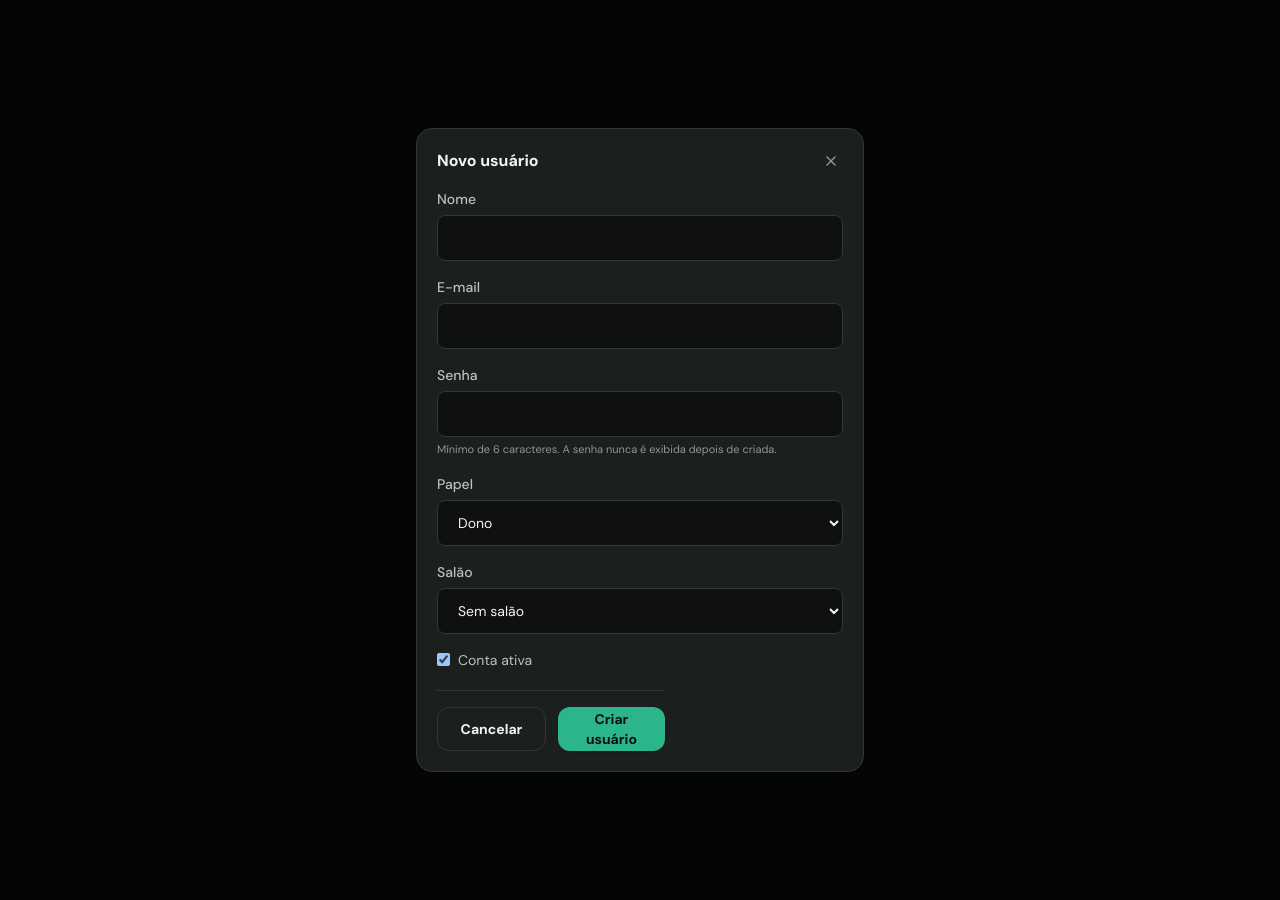
Test: UserFormDialog › valida senha curta na criação
Type "Maria" into the field labelled "Nome" at [640, 238], box [437, 215, 843, 261]
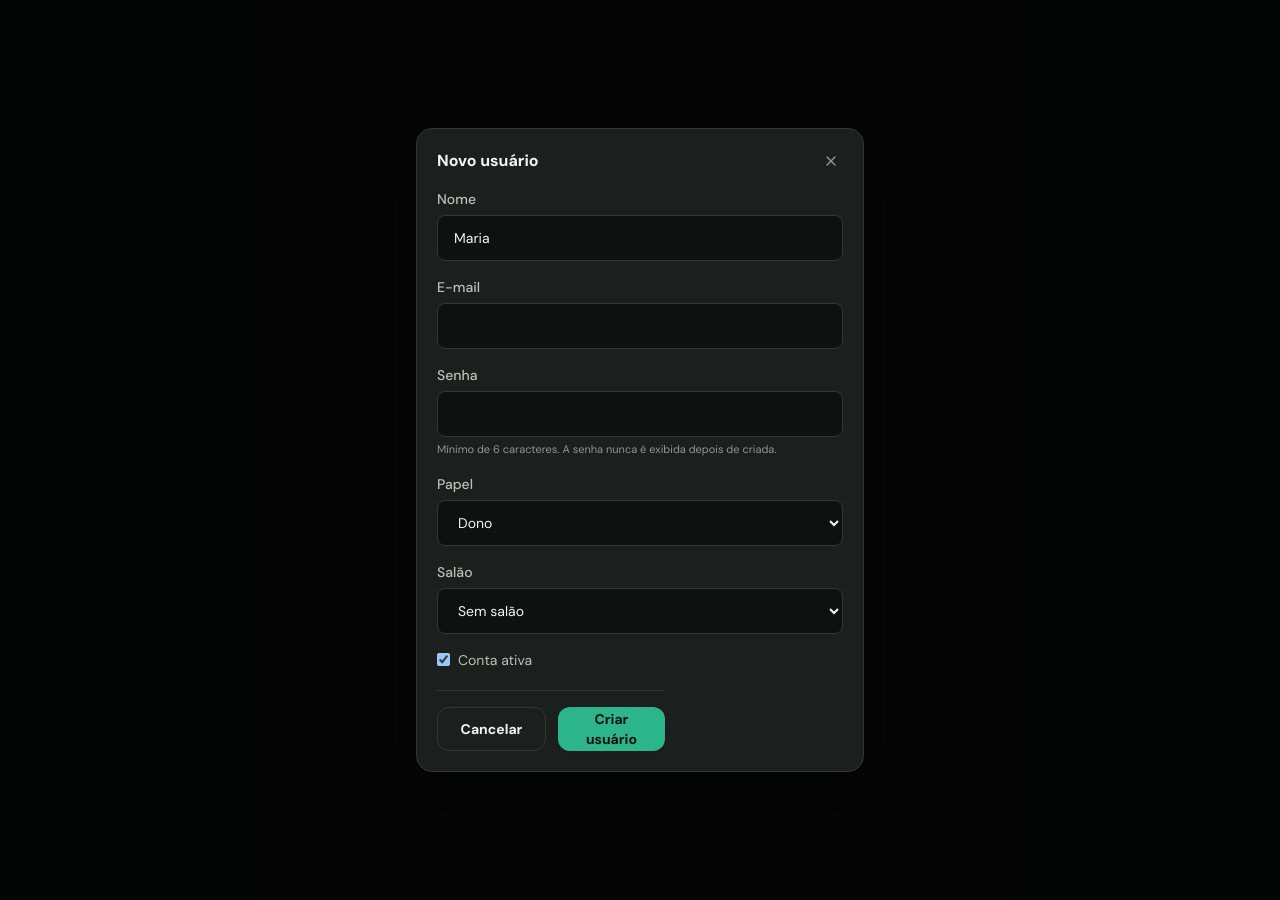
Type "maria@x.com" into the field labelled "E-mail" at [640, 326], box [437, 303, 843, 349]
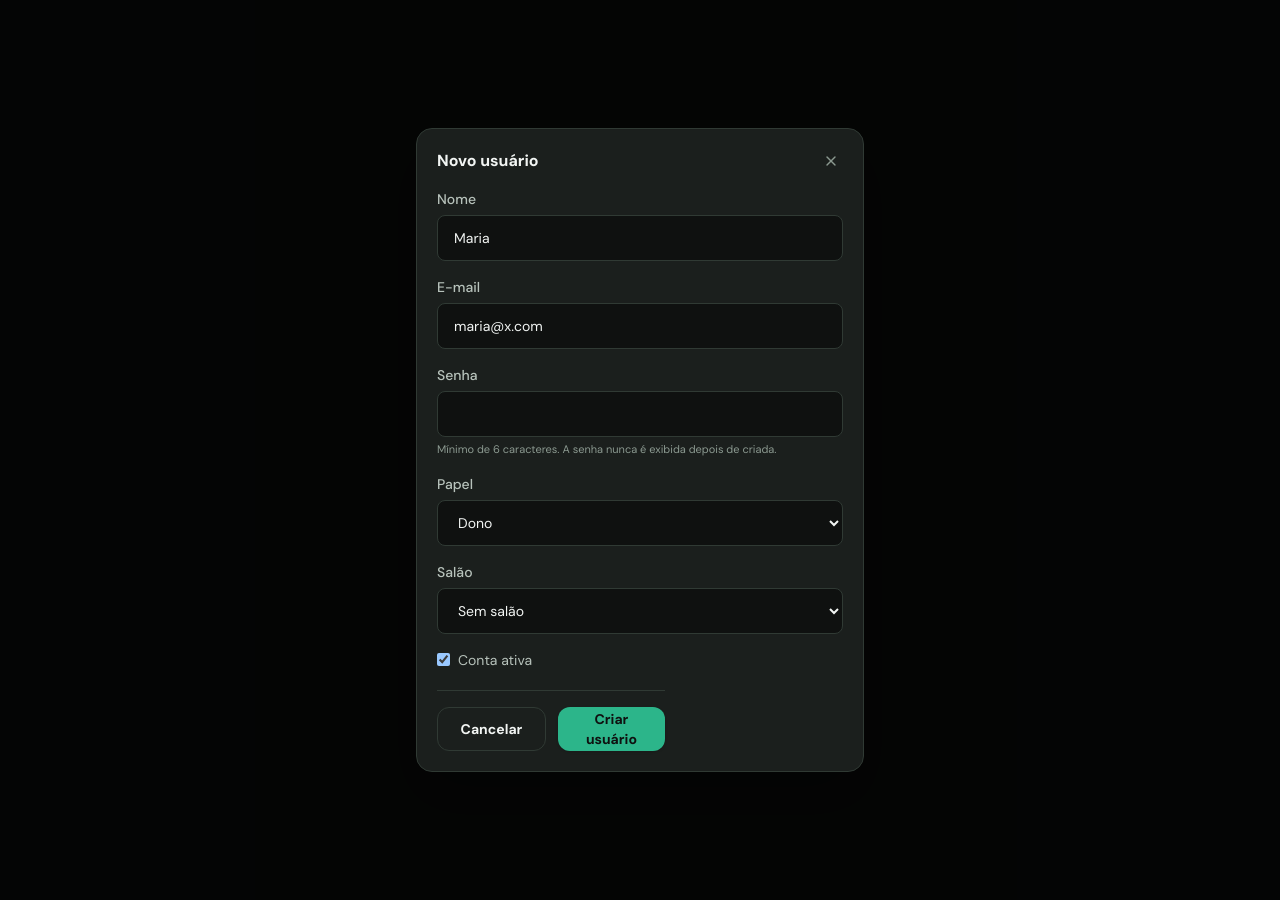
Type "123" into the password field labelled "Senha" at [640, 414], box [437, 391, 843, 437]
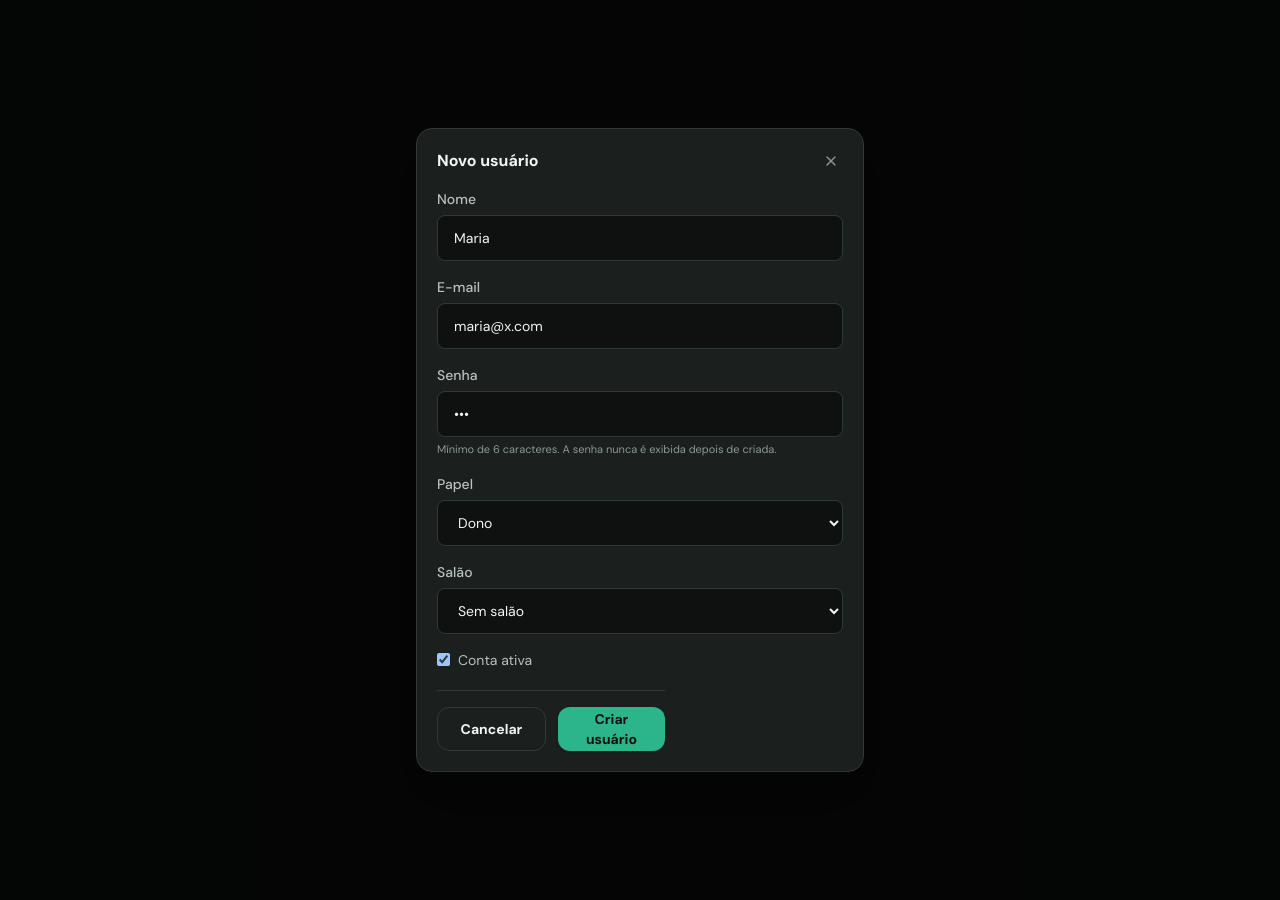
Click the button "Criar usuário" at [612, 729], box [558, 707, 665, 751]
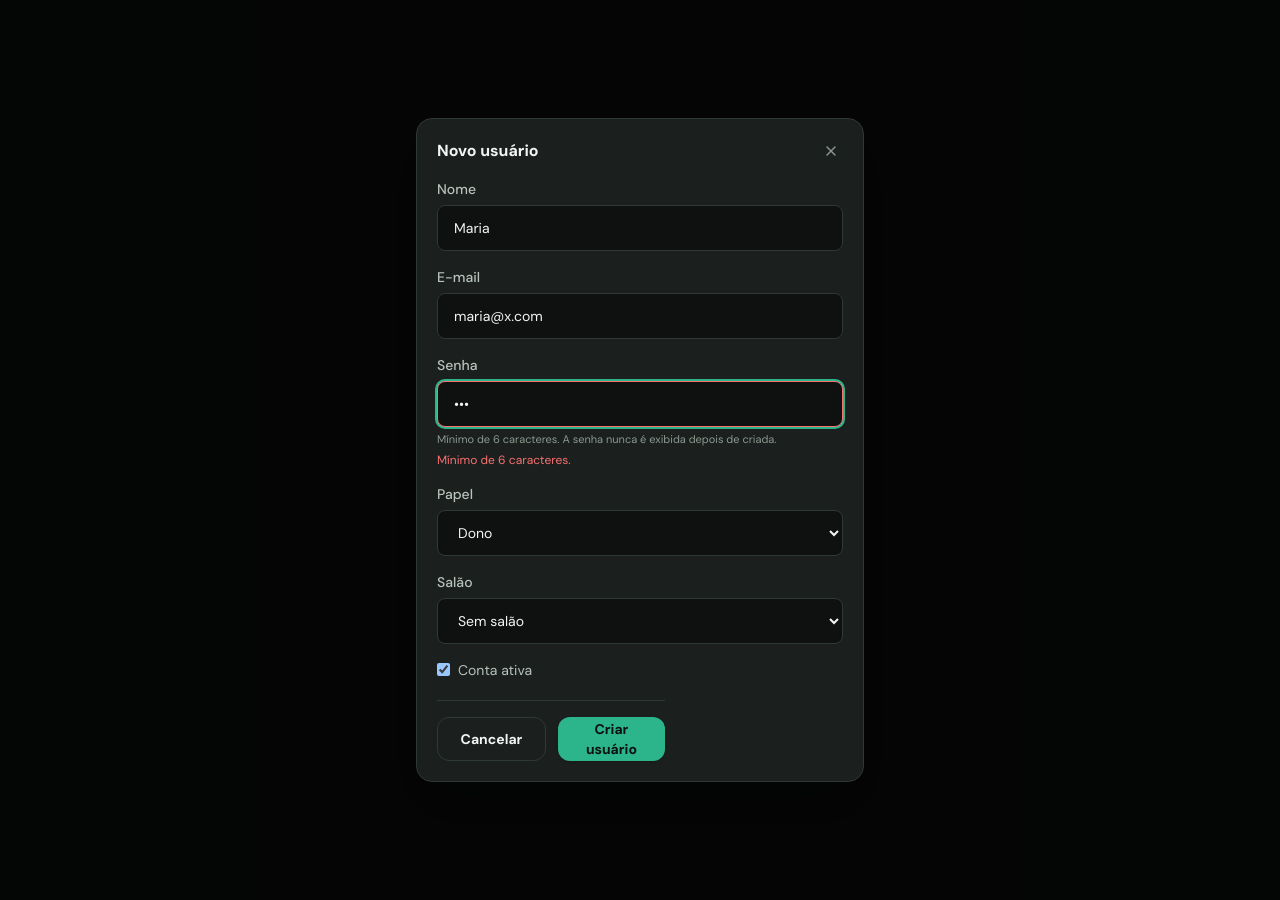
Expected: the text "Mínimo de 6 caracteres." is shown, [437, 452, 571, 468]
